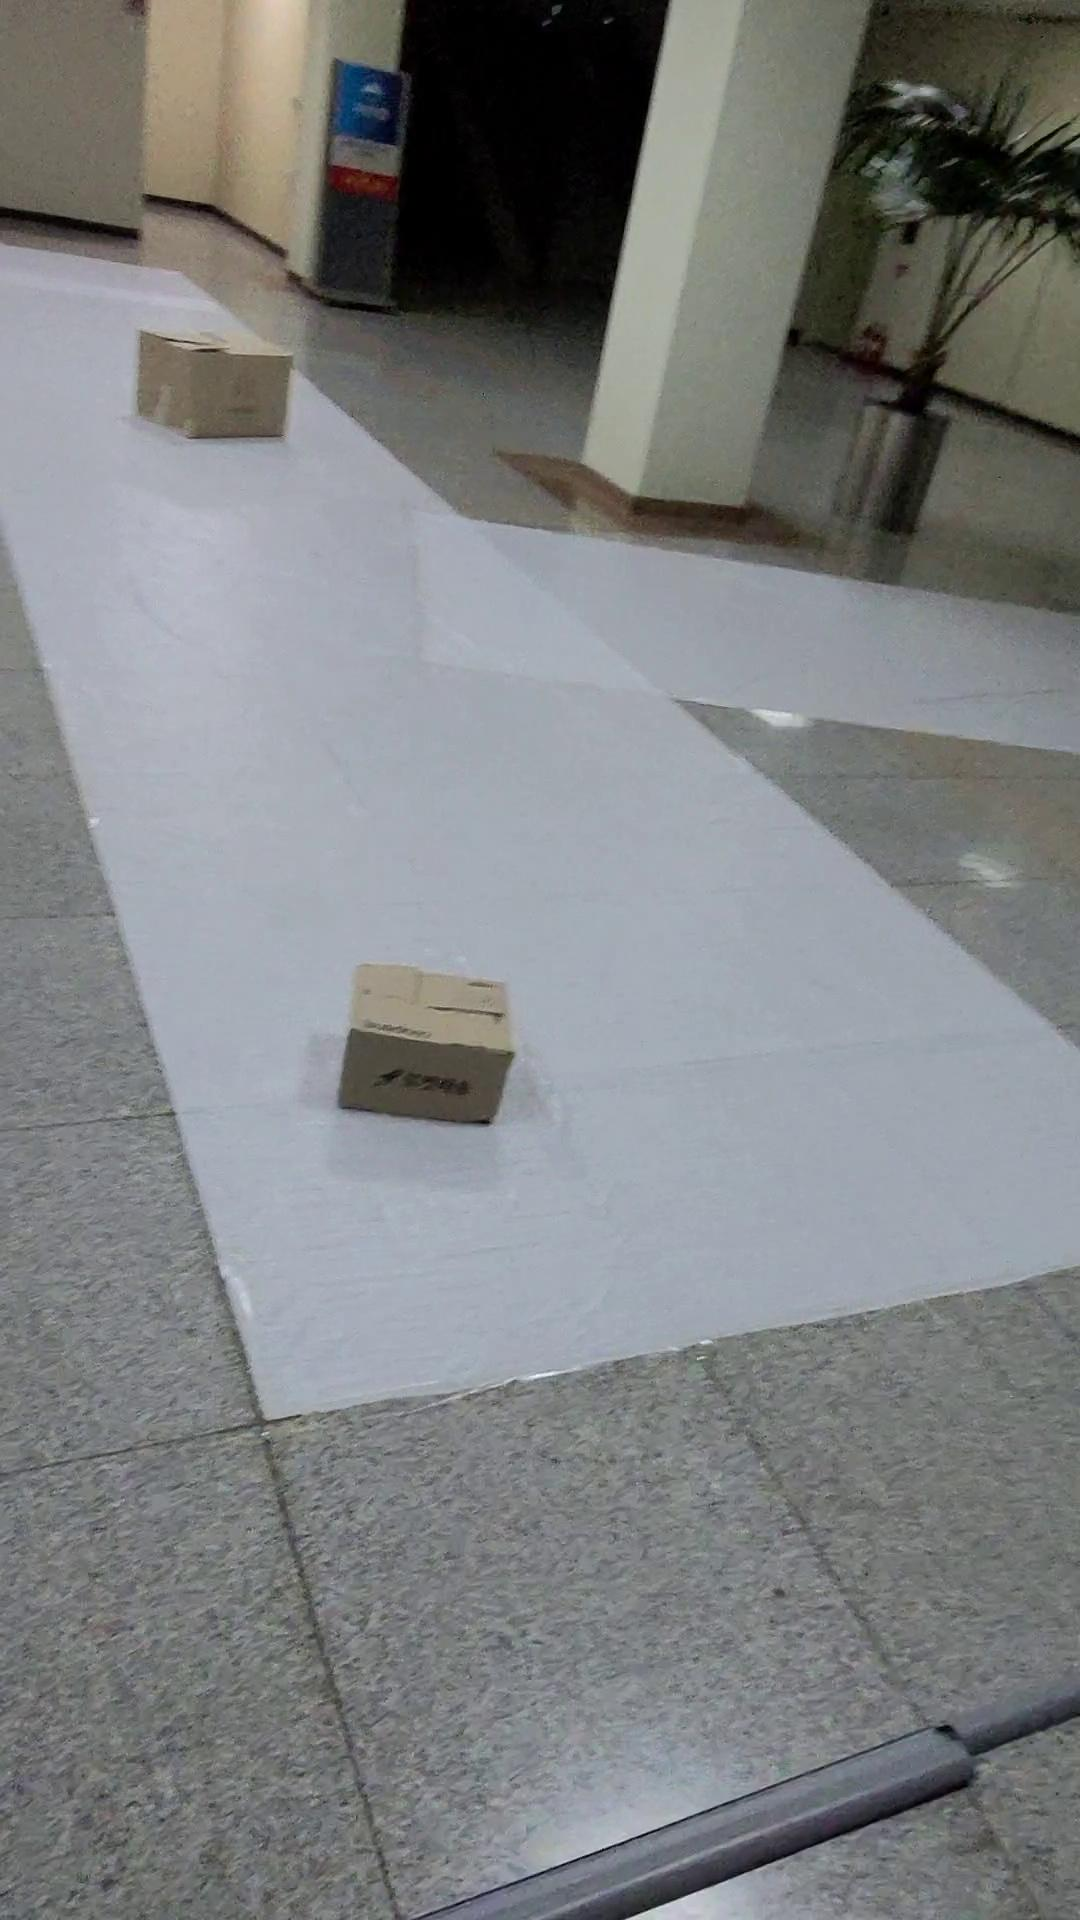Box: (309, 943, 553, 1155), (88, 295, 297, 475)
